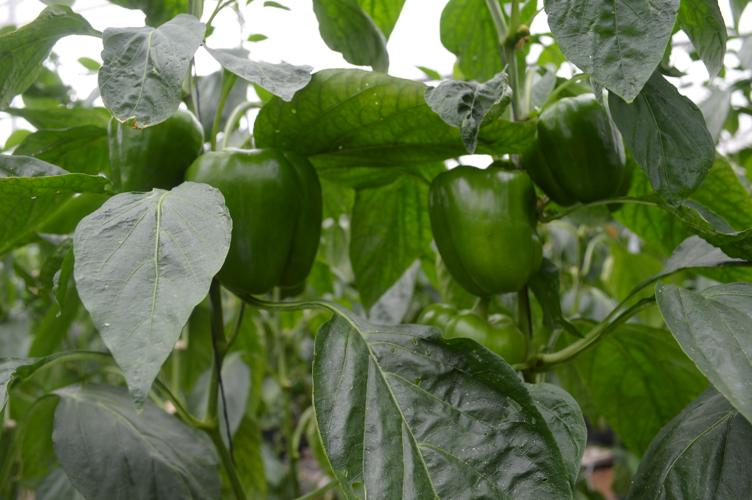BellPepper: (191, 153, 325, 292), (432, 166, 543, 290), (529, 94, 621, 199), (104, 108, 204, 194), (416, 304, 535, 362)
